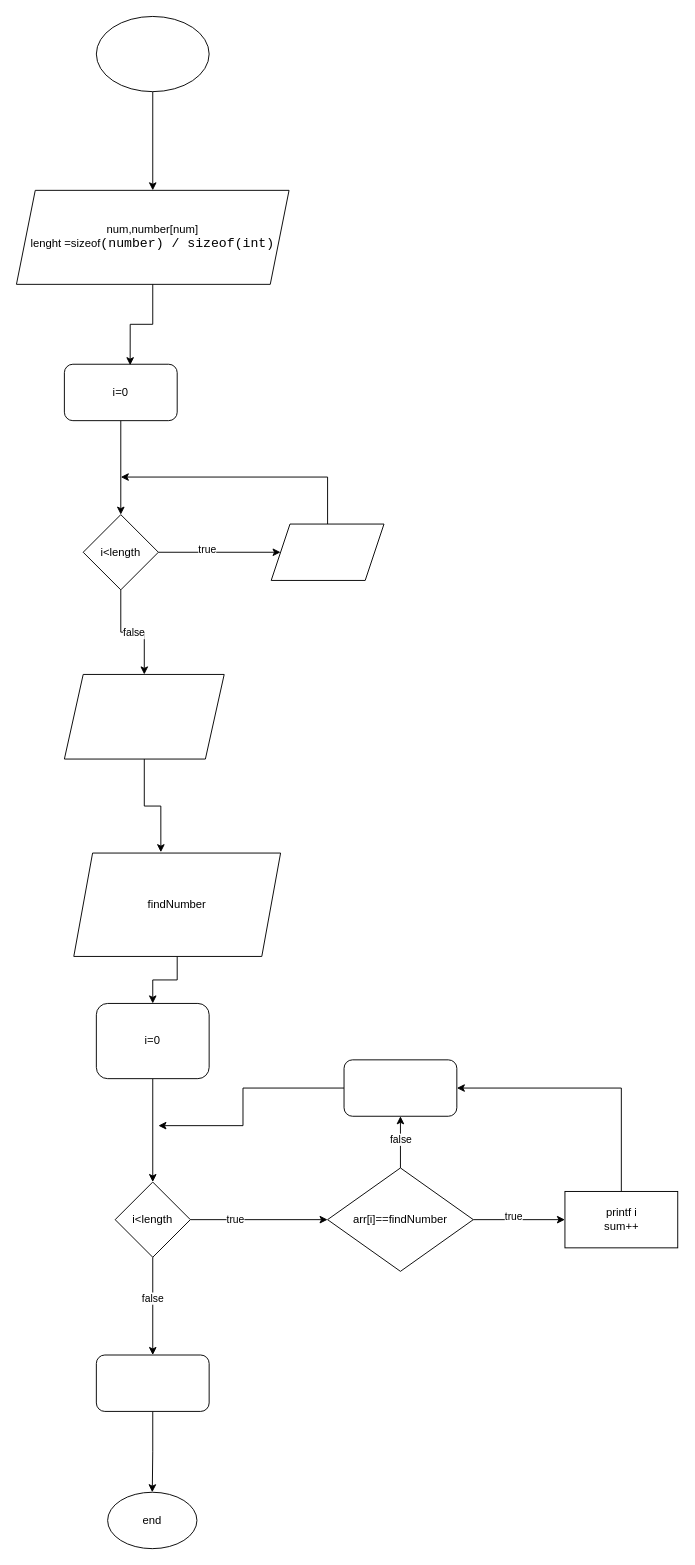
The diagram is 695 pixels wide and 1565 high, and some of its shapes have lost their labels. Here are the shapes that lost their labels. From the top down, the centre of each, then its label:
the point at 152,54: start
the point at 327,551: number[i] i++
the point at 143,716: max=min=number[0]
the point at 400,1087: i++
the point at 152,1382: sum
